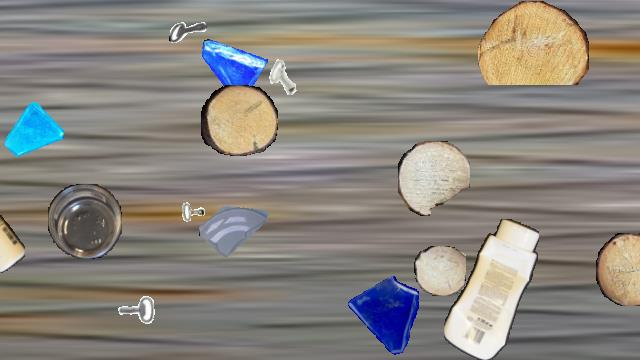glass: (344, 275, 428, 359), (199, 189, 271, 261), (198, 36, 268, 106), (5, 102, 63, 160)
metal: (258, 52, 310, 104), (107, 294, 157, 344), (166, 200, 214, 248), (169, 12, 207, 50)
plastic: (444, 219, 538, 359), (48, 184, 122, 258), (0, 169, 25, 273)
wood: (478, 1, 588, 85), (398, 141, 470, 215), (201, 85, 277, 155), (596, 233, 640, 305), (414, 246, 466, 296)
